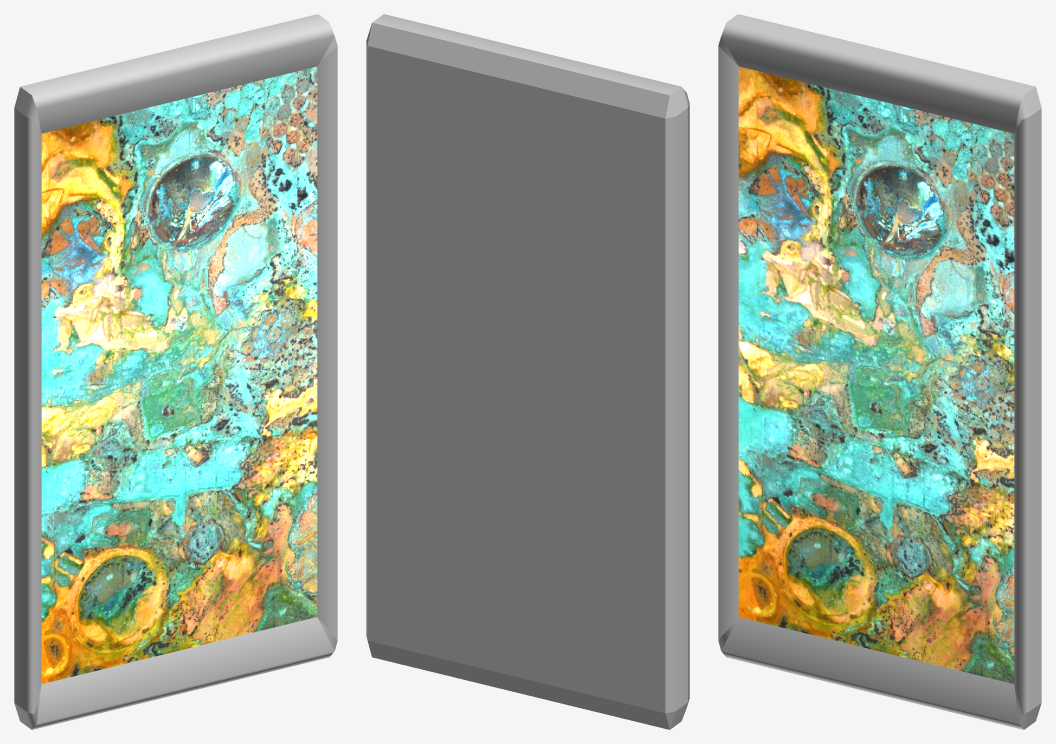
The model's file is Verdigris.glb.
3 renders of one model, left to right at view 1: azimuth 30°, elevation 25°; view 2: azimuth 150°, elevation 25°; view 3: azimuth 330°, elevation 25°, orthographic.
Visible parts, largest first — view 1: Verdigris 48 x 24, Mesh_1; view 2: Mesh_1; view 3: Verdigris 48 x 24, Mesh_1.
Boxes of the visible parts, x1,y1,x2,y2 form: Verdigris 48 x 24: [41, 66, 317, 683]; Mesh_1: [14, 14, 337, 729]; Mesh_1: [366, 14, 689, 729]; Verdigris 48 x 24: [738, 66, 1014, 683]; Mesh_1: [718, 14, 1041, 729].
Size of the model in its own units: 0.25 by 0.49 by 0.03.
2 materials, 1 textured.
